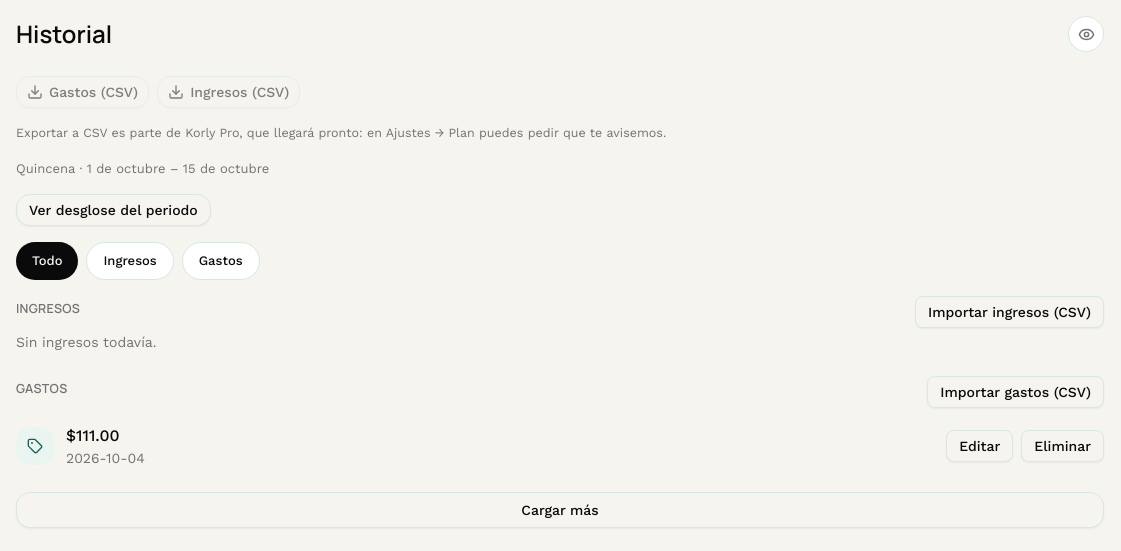
Historial — el periodo activo › con "Cargar más" trae la siguiente página de gastos con su cursor y la agrega
What coordinates should you click on to do the following:
click the button "Cargar más"
I would click on:
 (560, 510)
Its box is [16,492,1104,528].
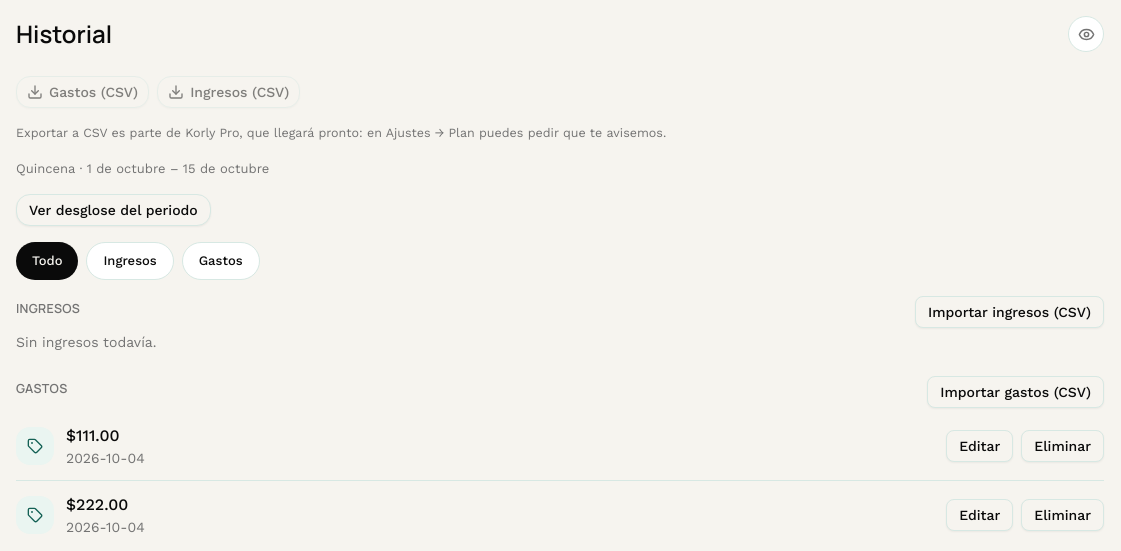
Now the button "Cargar más" is gone
